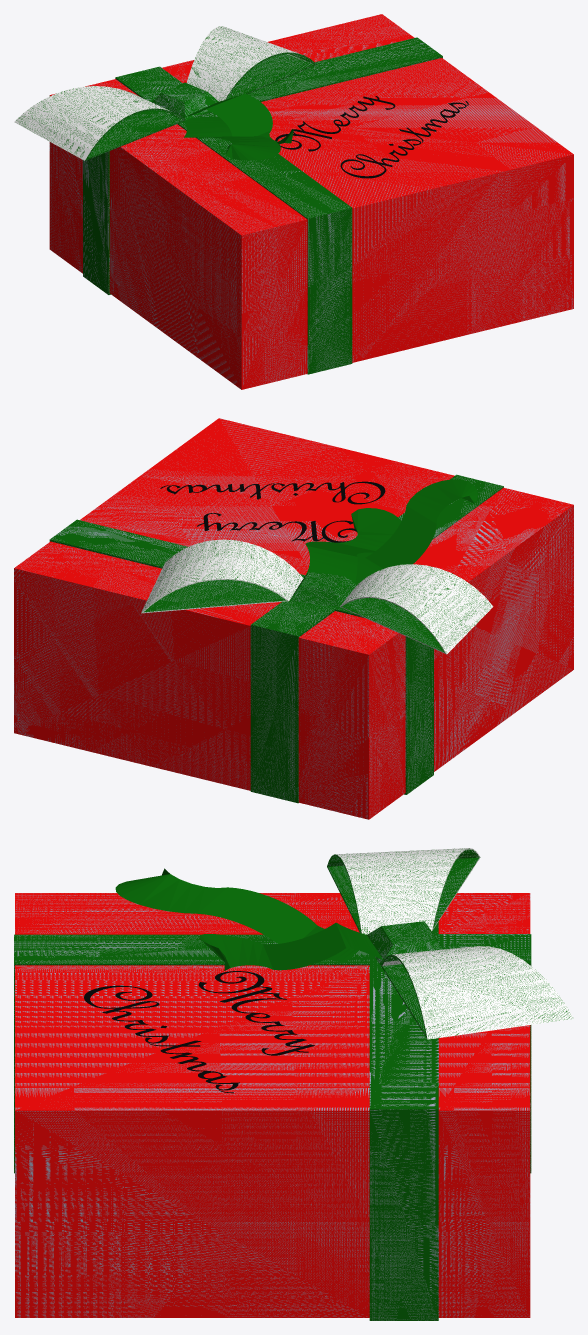
3 views of the same model, one above another, from view 1: azimuth 30°, elevation 25°; view 2: azimuth 150°, elevation 25°; view 3: azimuth 270°, elevation 25° (orthographic). The views are drawn at different scales.
Parts seen in each view (by area): view 1: SketchUp (×10); view 2: SketchUp (×10); view 3: SketchUp (×10), Merry.
Part boxes in pixels (box(x1,y1,x2,y2)): SketchUp (×10): box(14, 14, 573, 389); SketchUp (×10): box(14, 418, 573, 819); SketchUp (×10): box(14, 848, 573, 1320); Merry: box(198, 971, 286, 1013).
Size of the model in its own units: 20.72 by 19.3 by 9.96.
